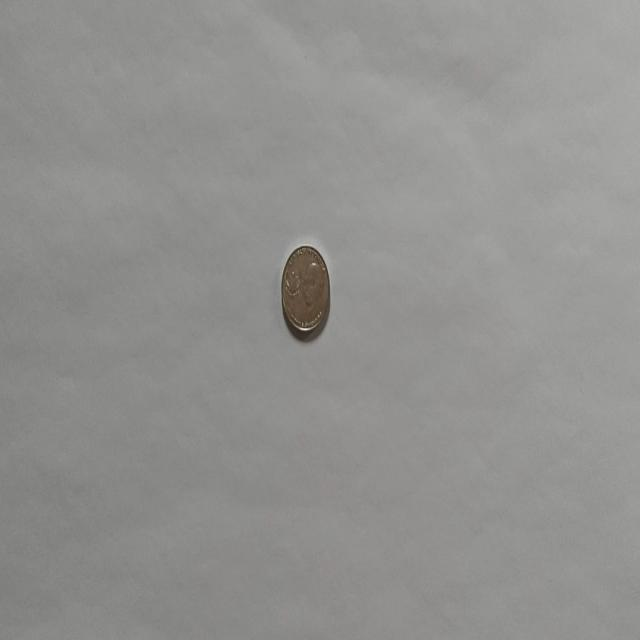lima ratus rupiah: (280, 242, 330, 338)
